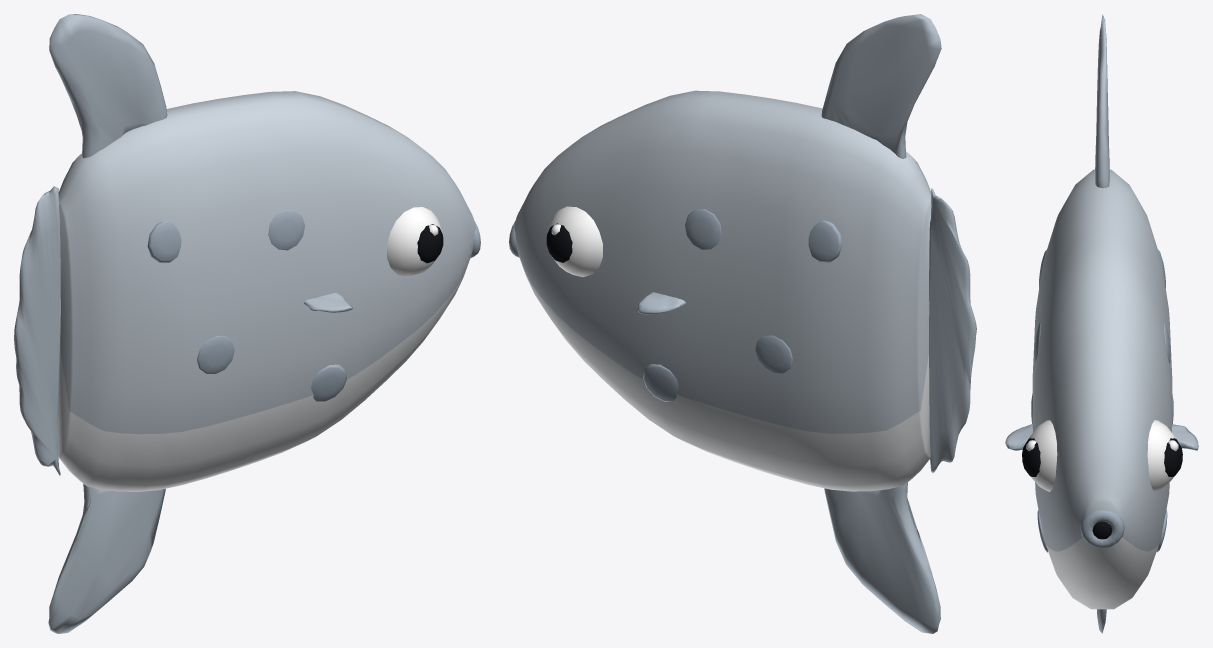
File: fish_sunfish.glb
The picture shows the model from 3 angles, left to right: view 1: azimuth 30°, elevation 25°; view 2: azimuth 150°, elevation 25°; view 3: azimuth 270°, elevation 25°; orthographic projection.
Visible parts, largest first — view 1: Fish, Tail, FinR; view 2: Fish, Tail, FinL; view 3: Fish, FinR, FinL.
Part boxes in pixels (x1,y1,x2,y2): Fish: [48, 14, 480, 633]; Tail: [14, 186, 60, 475]; FinR: [304, 292, 352, 312]; Fish: [509, 14, 941, 633]; Tail: [929, 188, 976, 472]; FinL: [637, 292, 685, 314]; Fish: [1022, 14, 1182, 633]; FinR: [1005, 424, 1032, 450]; FinL: [1172, 424, 1198, 450].
Bounding box in the file's own units: 1.6 × 2.05 × 0.58.
